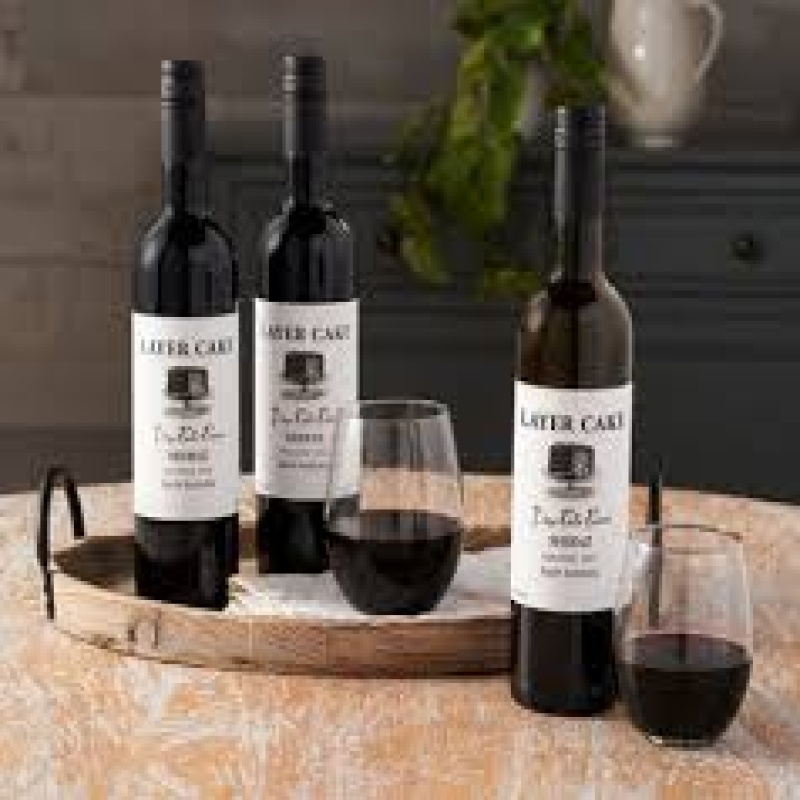wine: (511, 103, 638, 705), (127, 55, 238, 592), (254, 60, 364, 558)
